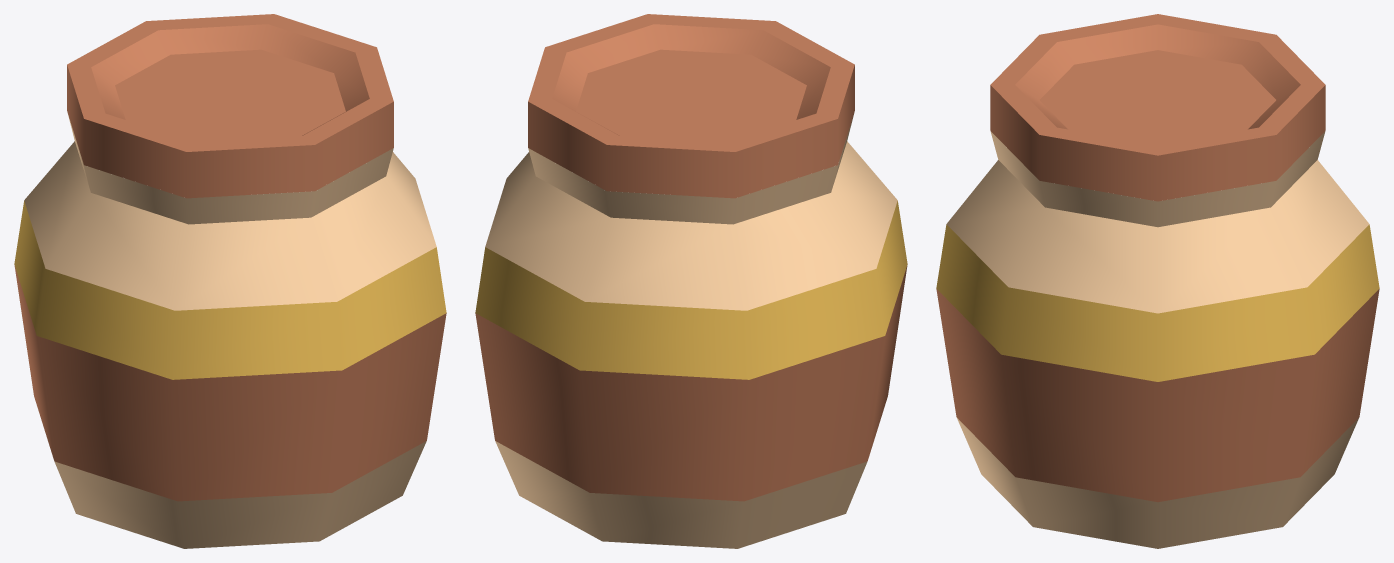
File: honey.glb
The picture shows the model from 3 angles, left to right: view 1: azimuth 30°, elevation 25°; view 2: azimuth 150°, elevation 25°; view 3: azimuth 270°, elevation 25°; orthographic projection.
Parts seen in each view (by area): view 1: honey; view 2: honey; view 3: honey.
Part boxes in pixels (x1,y1,x2,y2): honey: (14, 14, 446, 548); honey: (475, 14, 907, 548); honey: (936, 14, 1379, 548).
Size of the model in its own units: 0.1444 by 0.14 by 0.1444.
